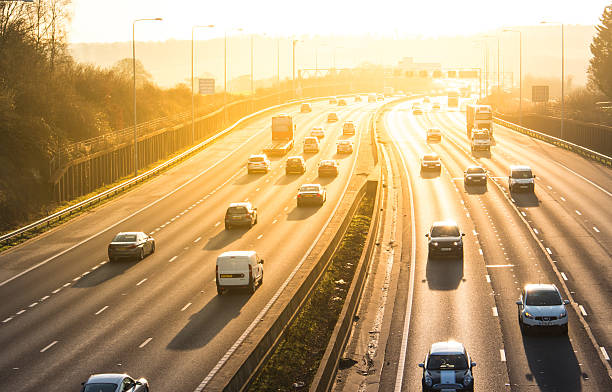car: (423, 340, 475, 392), (517, 284, 570, 330), (213, 248, 265, 294), (78, 371, 154, 392), (107, 230, 157, 261), (429, 221, 462, 256), (223, 201, 261, 229), (508, 164, 536, 191), (294, 183, 327, 203), (471, 128, 492, 156), (248, 153, 271, 177), (463, 165, 488, 187), (316, 158, 342, 179), (282, 155, 307, 176), (302, 134, 321, 155), (420, 154, 442, 172), (424, 126, 444, 144), (340, 120, 357, 139), (334, 141, 357, 155), (309, 125, 327, 138), (300, 101, 312, 113), (326, 111, 338, 123)
truck: (263, 111, 298, 155), (462, 105, 498, 136)
